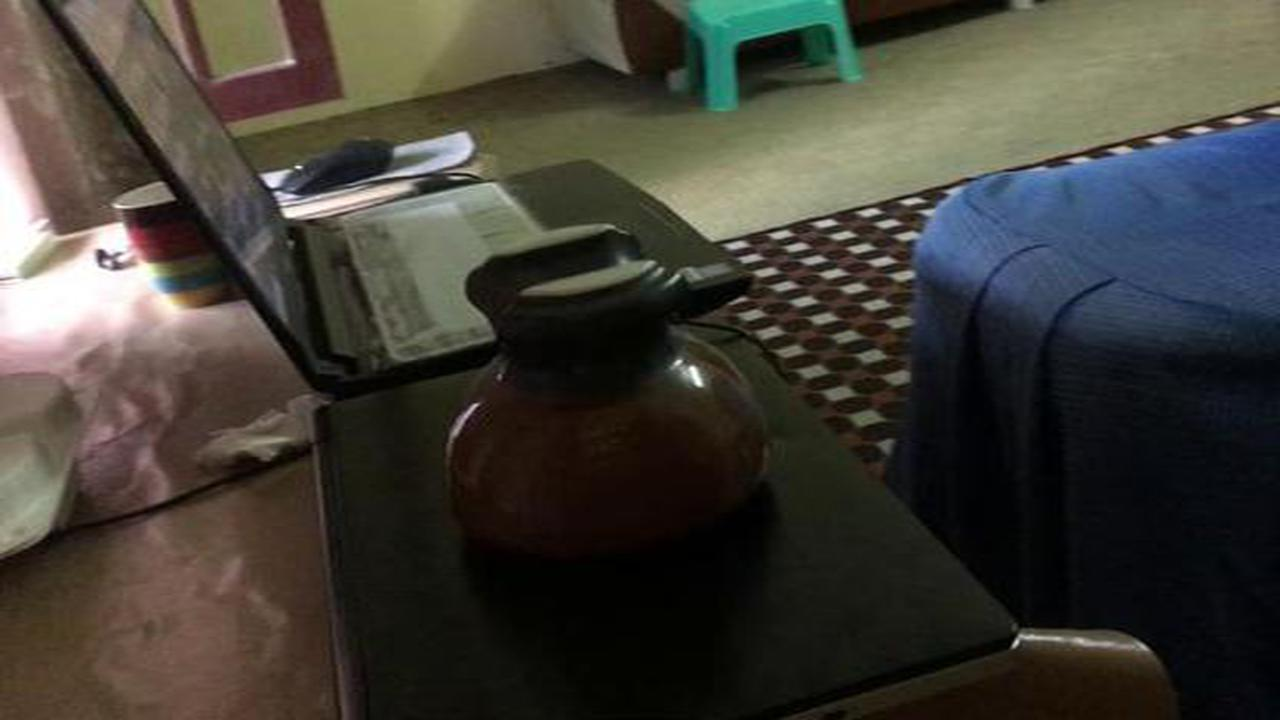insulator_pin: (416, 222, 791, 573)
